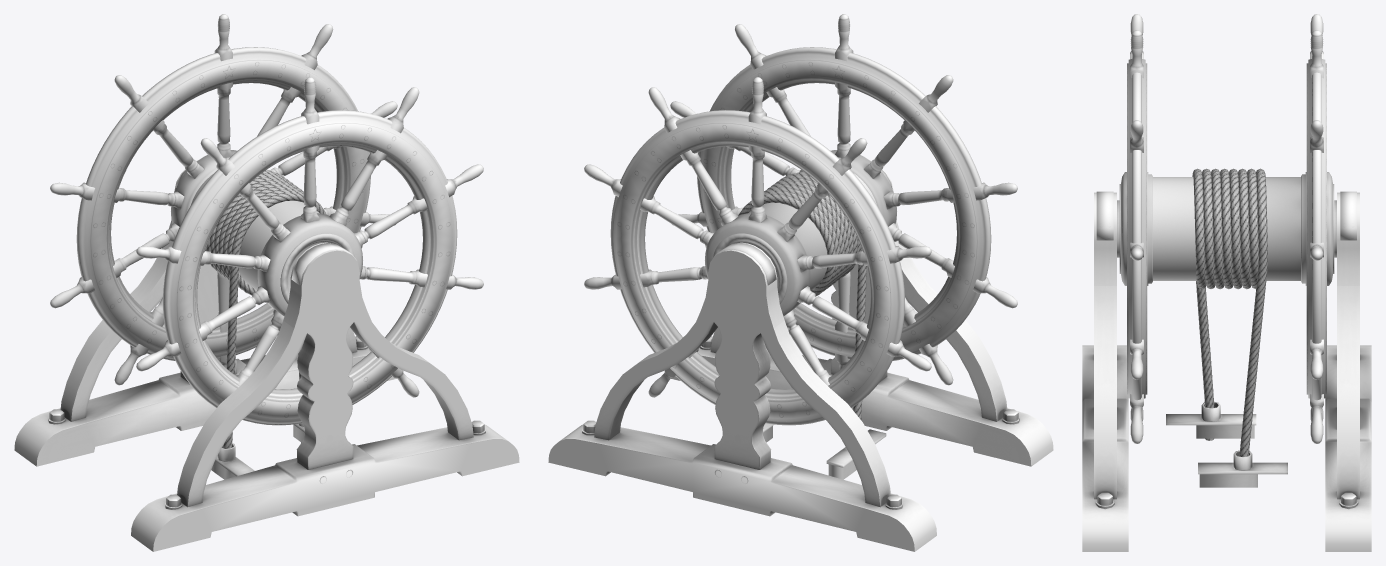
The model's file is Wheel_Mesh.fbx.
3 views of the same model, side by side, from view 1: azimuth 30°, elevation 25°; view 2: azimuth 150°, elevation 25°; view 3: azimuth 270°, elevation 25° (orthographic). The views are drawn at different scales.
Visible parts, largest first — view 1: Wheel; view 2: Wheel; view 3: Wheel.
Boxes of the visible parts, x1,y1,x2,y2 form: Wheel: (14, 14, 519, 551); Wheel: (548, 14, 1053, 551); Wheel: (1082, 14, 1371, 551).
Size of the model in its own units: 160 by 173 by 105.
